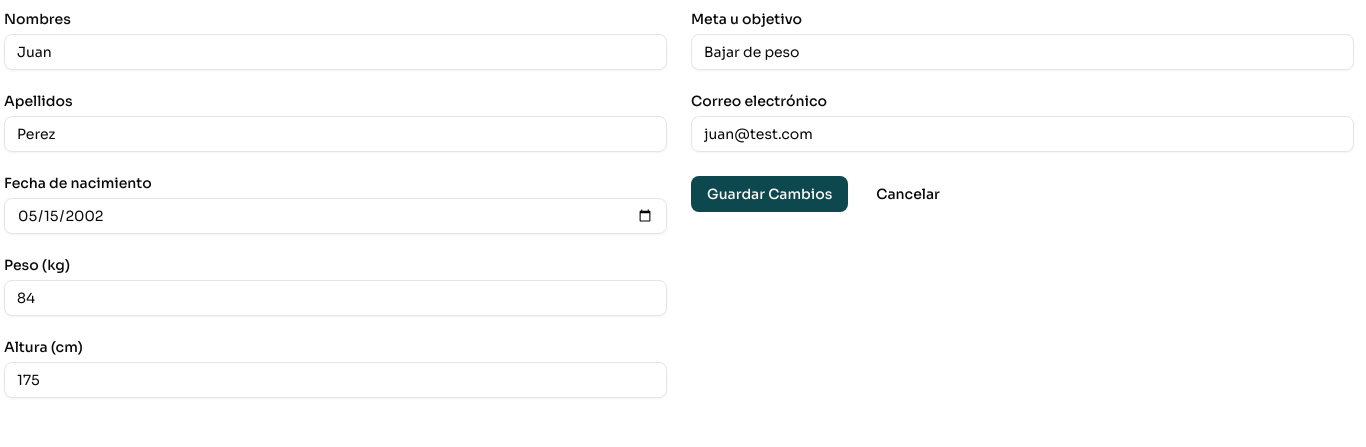
Test: FormProfile › muestra error de validación si el nombre está vacío al enviar
The image size is (1366, 447).
Note: Limpiar el campo nombre
Clear the field labelled "Nombres" at (336, 52), box x1=4 y1=34 x2=667 y2=70
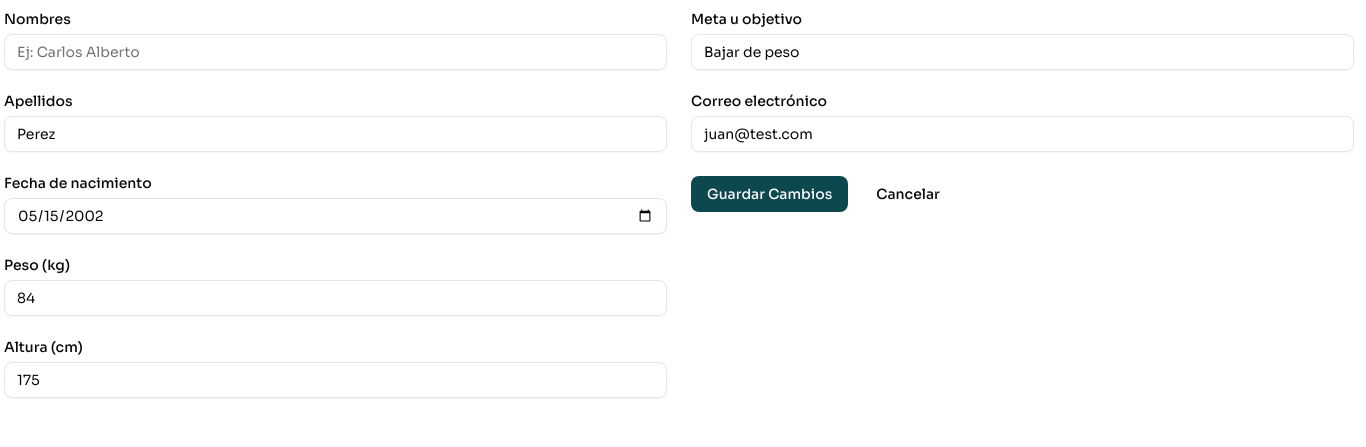
Click the button "Guardar Cambios" at (770, 194), box x1=691 y1=176 x2=848 y2=212
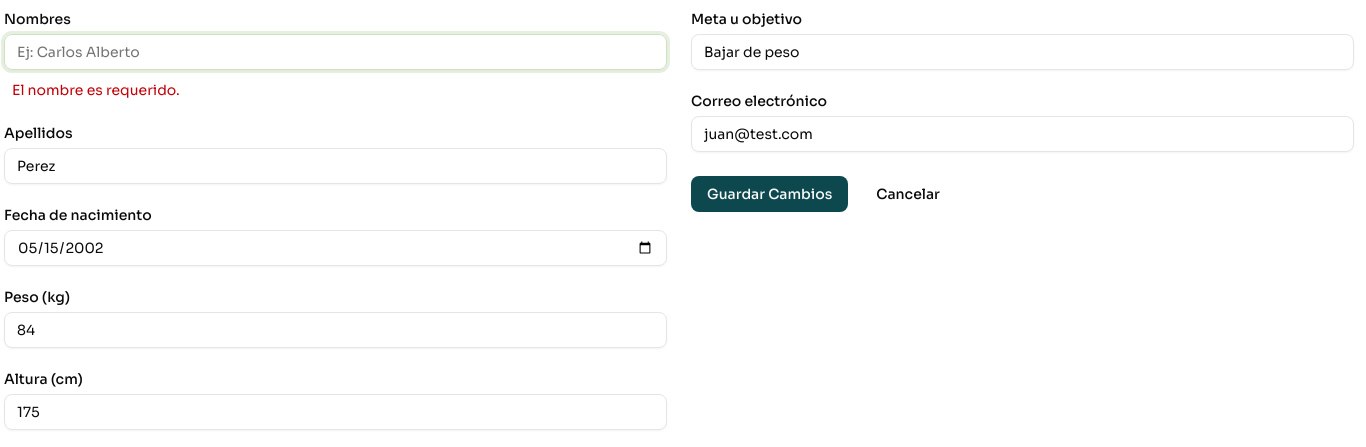
expect the text "El nombre es requerido." is shown: met, box x1=12 y1=81 x2=180 y2=99
